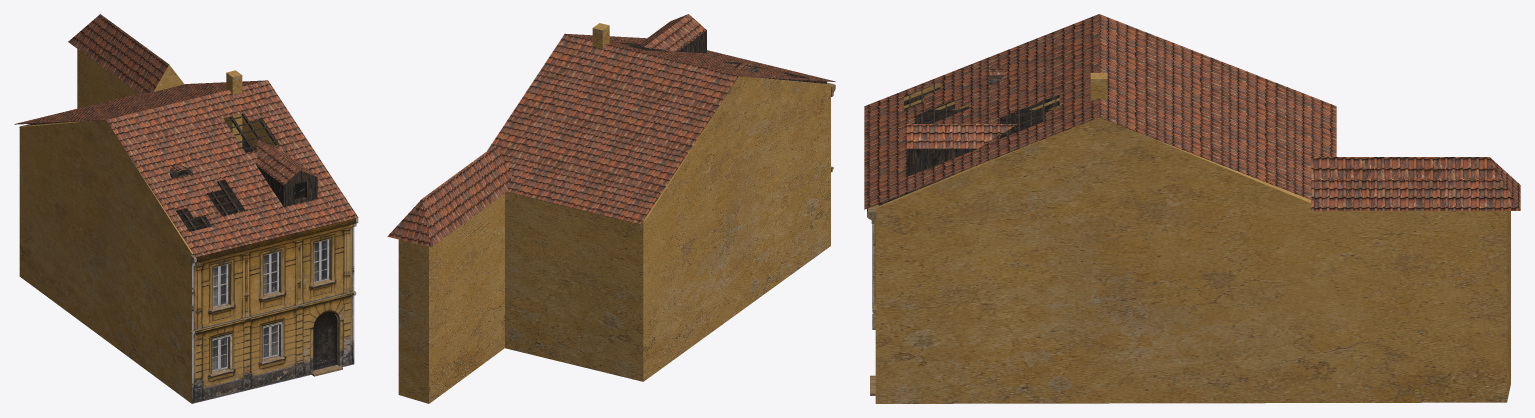
File: cp265_study.glb
3 views of the same model, side by side, from view 1: azimuth 30°, elevation 25°; view 2: azimuth 150°, elevation 25°; view 3: azimuth 270°, elevation 25° (orthographic). The views are drawn at different scales.
Parts seen in each view (by area): view 1: CP_265_Masonry, CP_265_Roof, CP_265_Gable_L_gable, CP_265_WingRoof_Rear_Wing, CP_265_Dormer_dormer1, CP_265_Cornice_eave_0, CP_265_Cornice_string_0, CP_265_Chimney_0, CP_265_Gable_R_gable, CP_265_Pilaster_0, CP_265_Pilaster_1; view 2: CP_265_Masonry, CP_265_Roof, CP_265_Gable_L_gable, CP_265_WingRoof_Rear_Wing, CP_265_Dormer_dormer1, CP_265_Chimney_0; view 3: CP_265_Masonry, CP_265_Roof, CP_265_Gable_R_gable, CP_265_WingRoof_Rear_Wing, CP_265_Dormer_dormer1.
Boxes of the visible parts, left/top/right/bottom form: CP_265_Masonry: left=19, top=49, right=354, bottom=403; CP_265_Roof: left=14, top=80, right=358, bottom=257; CP_265_Gable_L_gable: left=19, top=120, right=193, bottom=253; CP_265_WingRoof_Rear_Wing: left=68, top=14, right=184, bottom=93; CP_265_Dormer_dormer1: left=256, top=139, right=317, bottom=206; CP_265_Cornice_eave_0: left=190, top=218, right=358, bottom=266; CP_265_Cornice_string_0: left=190, top=291, right=356, bottom=335; CP_265_Chimney_0: left=226, top=70, right=242, bottom=146; CP_265_Gable_R_gable: left=223, top=117, right=279, bottom=148; CP_265_Pilaster_0: left=197, top=265, right=201, bottom=329; CP_265_Pilaster_1: left=245, top=253, right=249, bottom=317; CP_265_Masonry: left=398, top=85, right=830, bottom=403; CP_265_Roof: left=487, top=33, right=835, bottom=224; CP_265_Gable_L_gable: left=643, top=76, right=830, bottom=220; CP_265_WingRoof_Rear_Wing: left=387, top=145, right=512, bottom=247; CP_265_Dormer_dormer1: left=641, top=14, right=706, bottom=53; CP_265_Chimney_0: left=592, top=23, right=609, bottom=48; CP_265_Masonry: left=875, top=110, right=1510, bottom=403; CP_265_Roof: left=864, top=14, right=1336, bottom=209; CP_265_Gable_R_gable: left=875, top=117, right=1311, bottom=208; CP_265_WingRoof_Rear_Wing: left=1311, top=157, right=1520, bottom=210; CP_265_Dormer_dormer1: left=906, top=124, right=1016, bottom=176.
Size of the model in its own units: 8.82 by 11.97 by 23.2.
7 materials, 7 textured.
